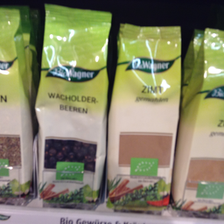spices: (34, 3, 112, 205), (109, 22, 182, 213), (178, 28, 224, 212)
